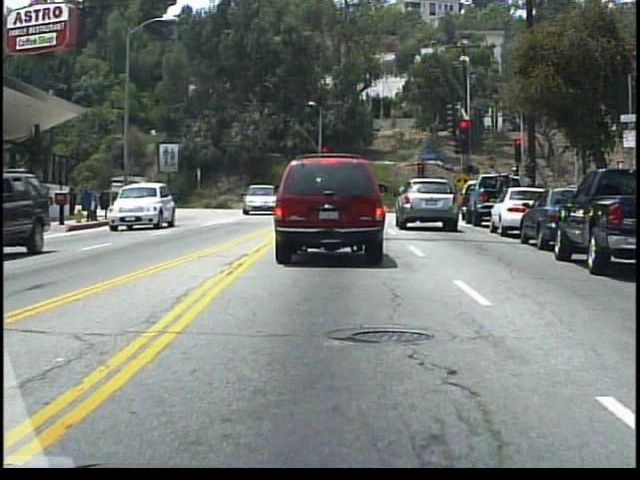person: (328, 186, 343, 212)
